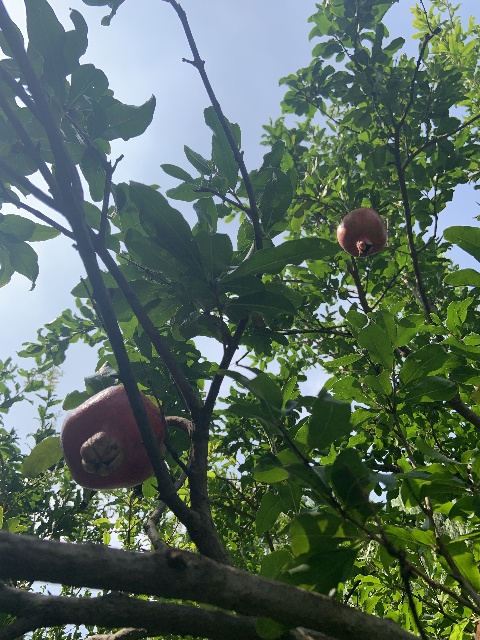ripe: (60, 383, 164, 490), (336, 207, 387, 257)
